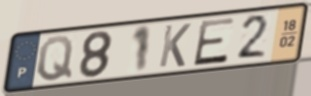1: (129, 23, 151, 75)
2: (233, 12, 272, 65)
8: (79, 29, 114, 80)
E: (191, 15, 237, 68)
K: (157, 22, 194, 70)
Q: (35, 34, 75, 83)
